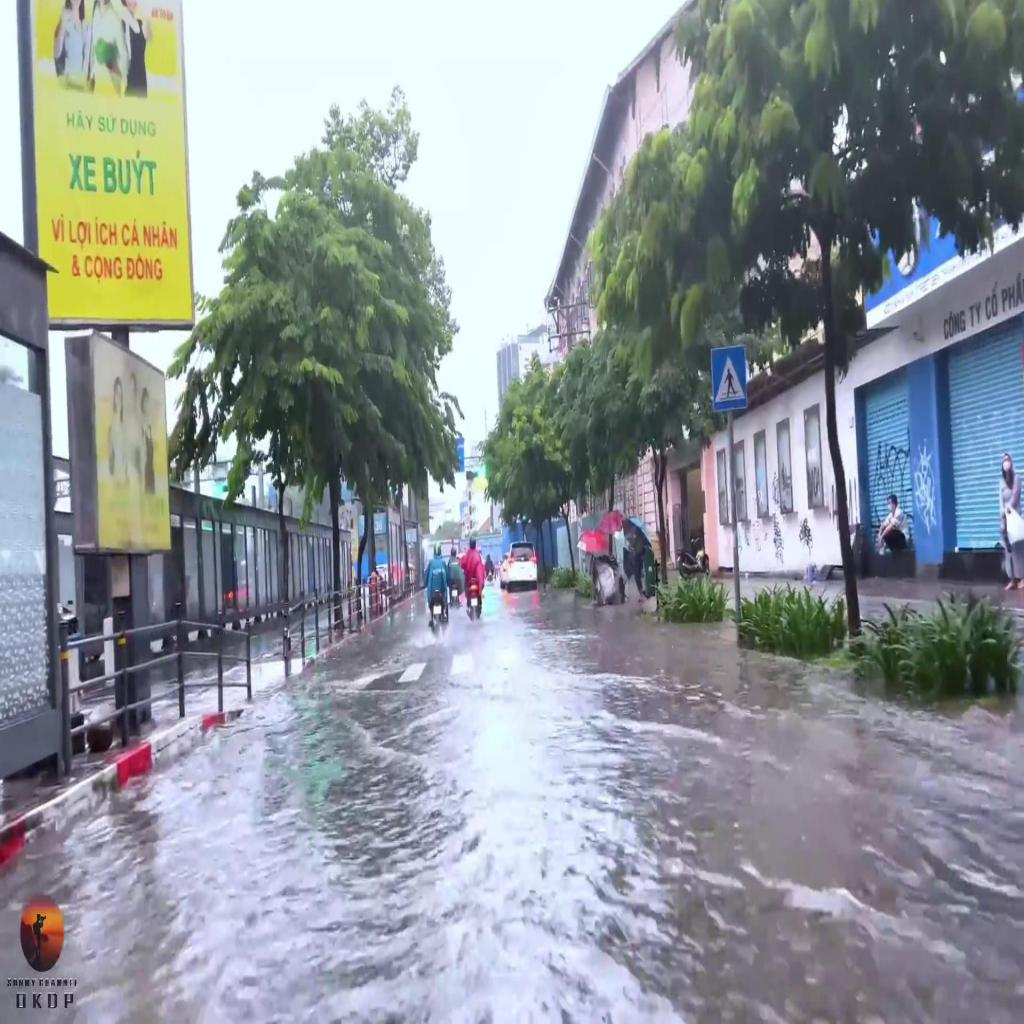duong_nguoi_di_bo_sang_ngang: (711, 347, 747, 411)
